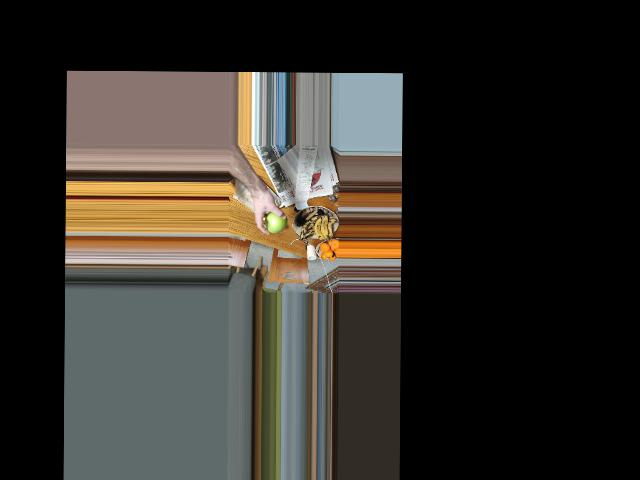apple: (266, 209, 283, 233)
